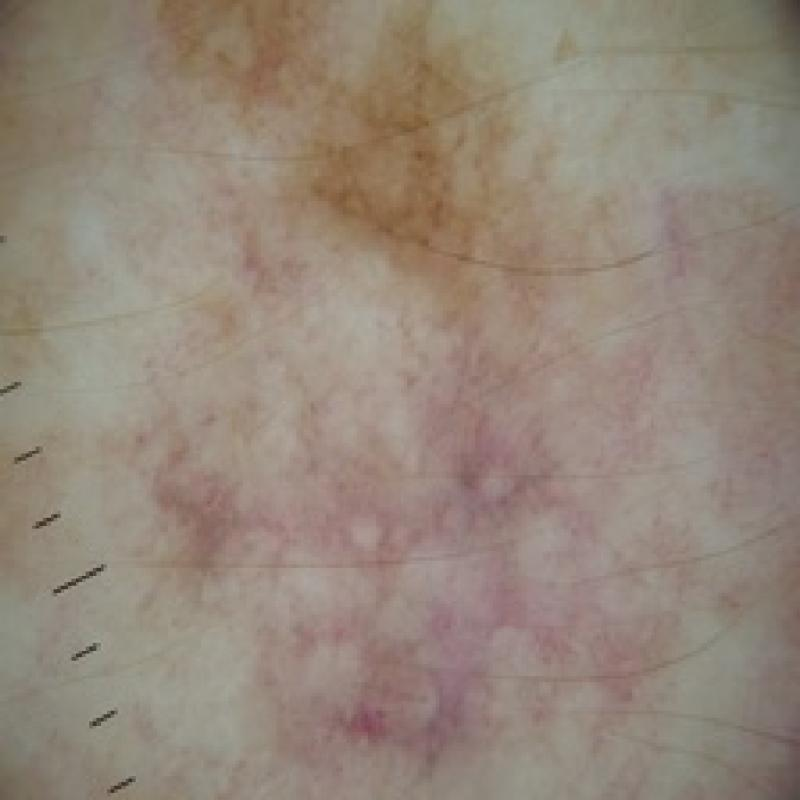malignant: (112, 20, 736, 773)
